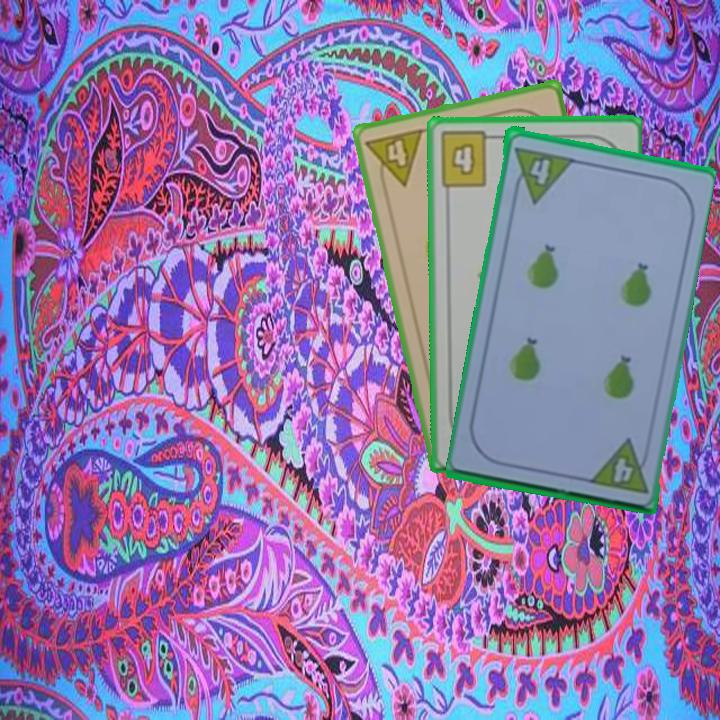4b: (436, 128, 500, 190)
4p: (362, 125, 426, 193), (508, 142, 575, 205), (586, 434, 653, 496)
